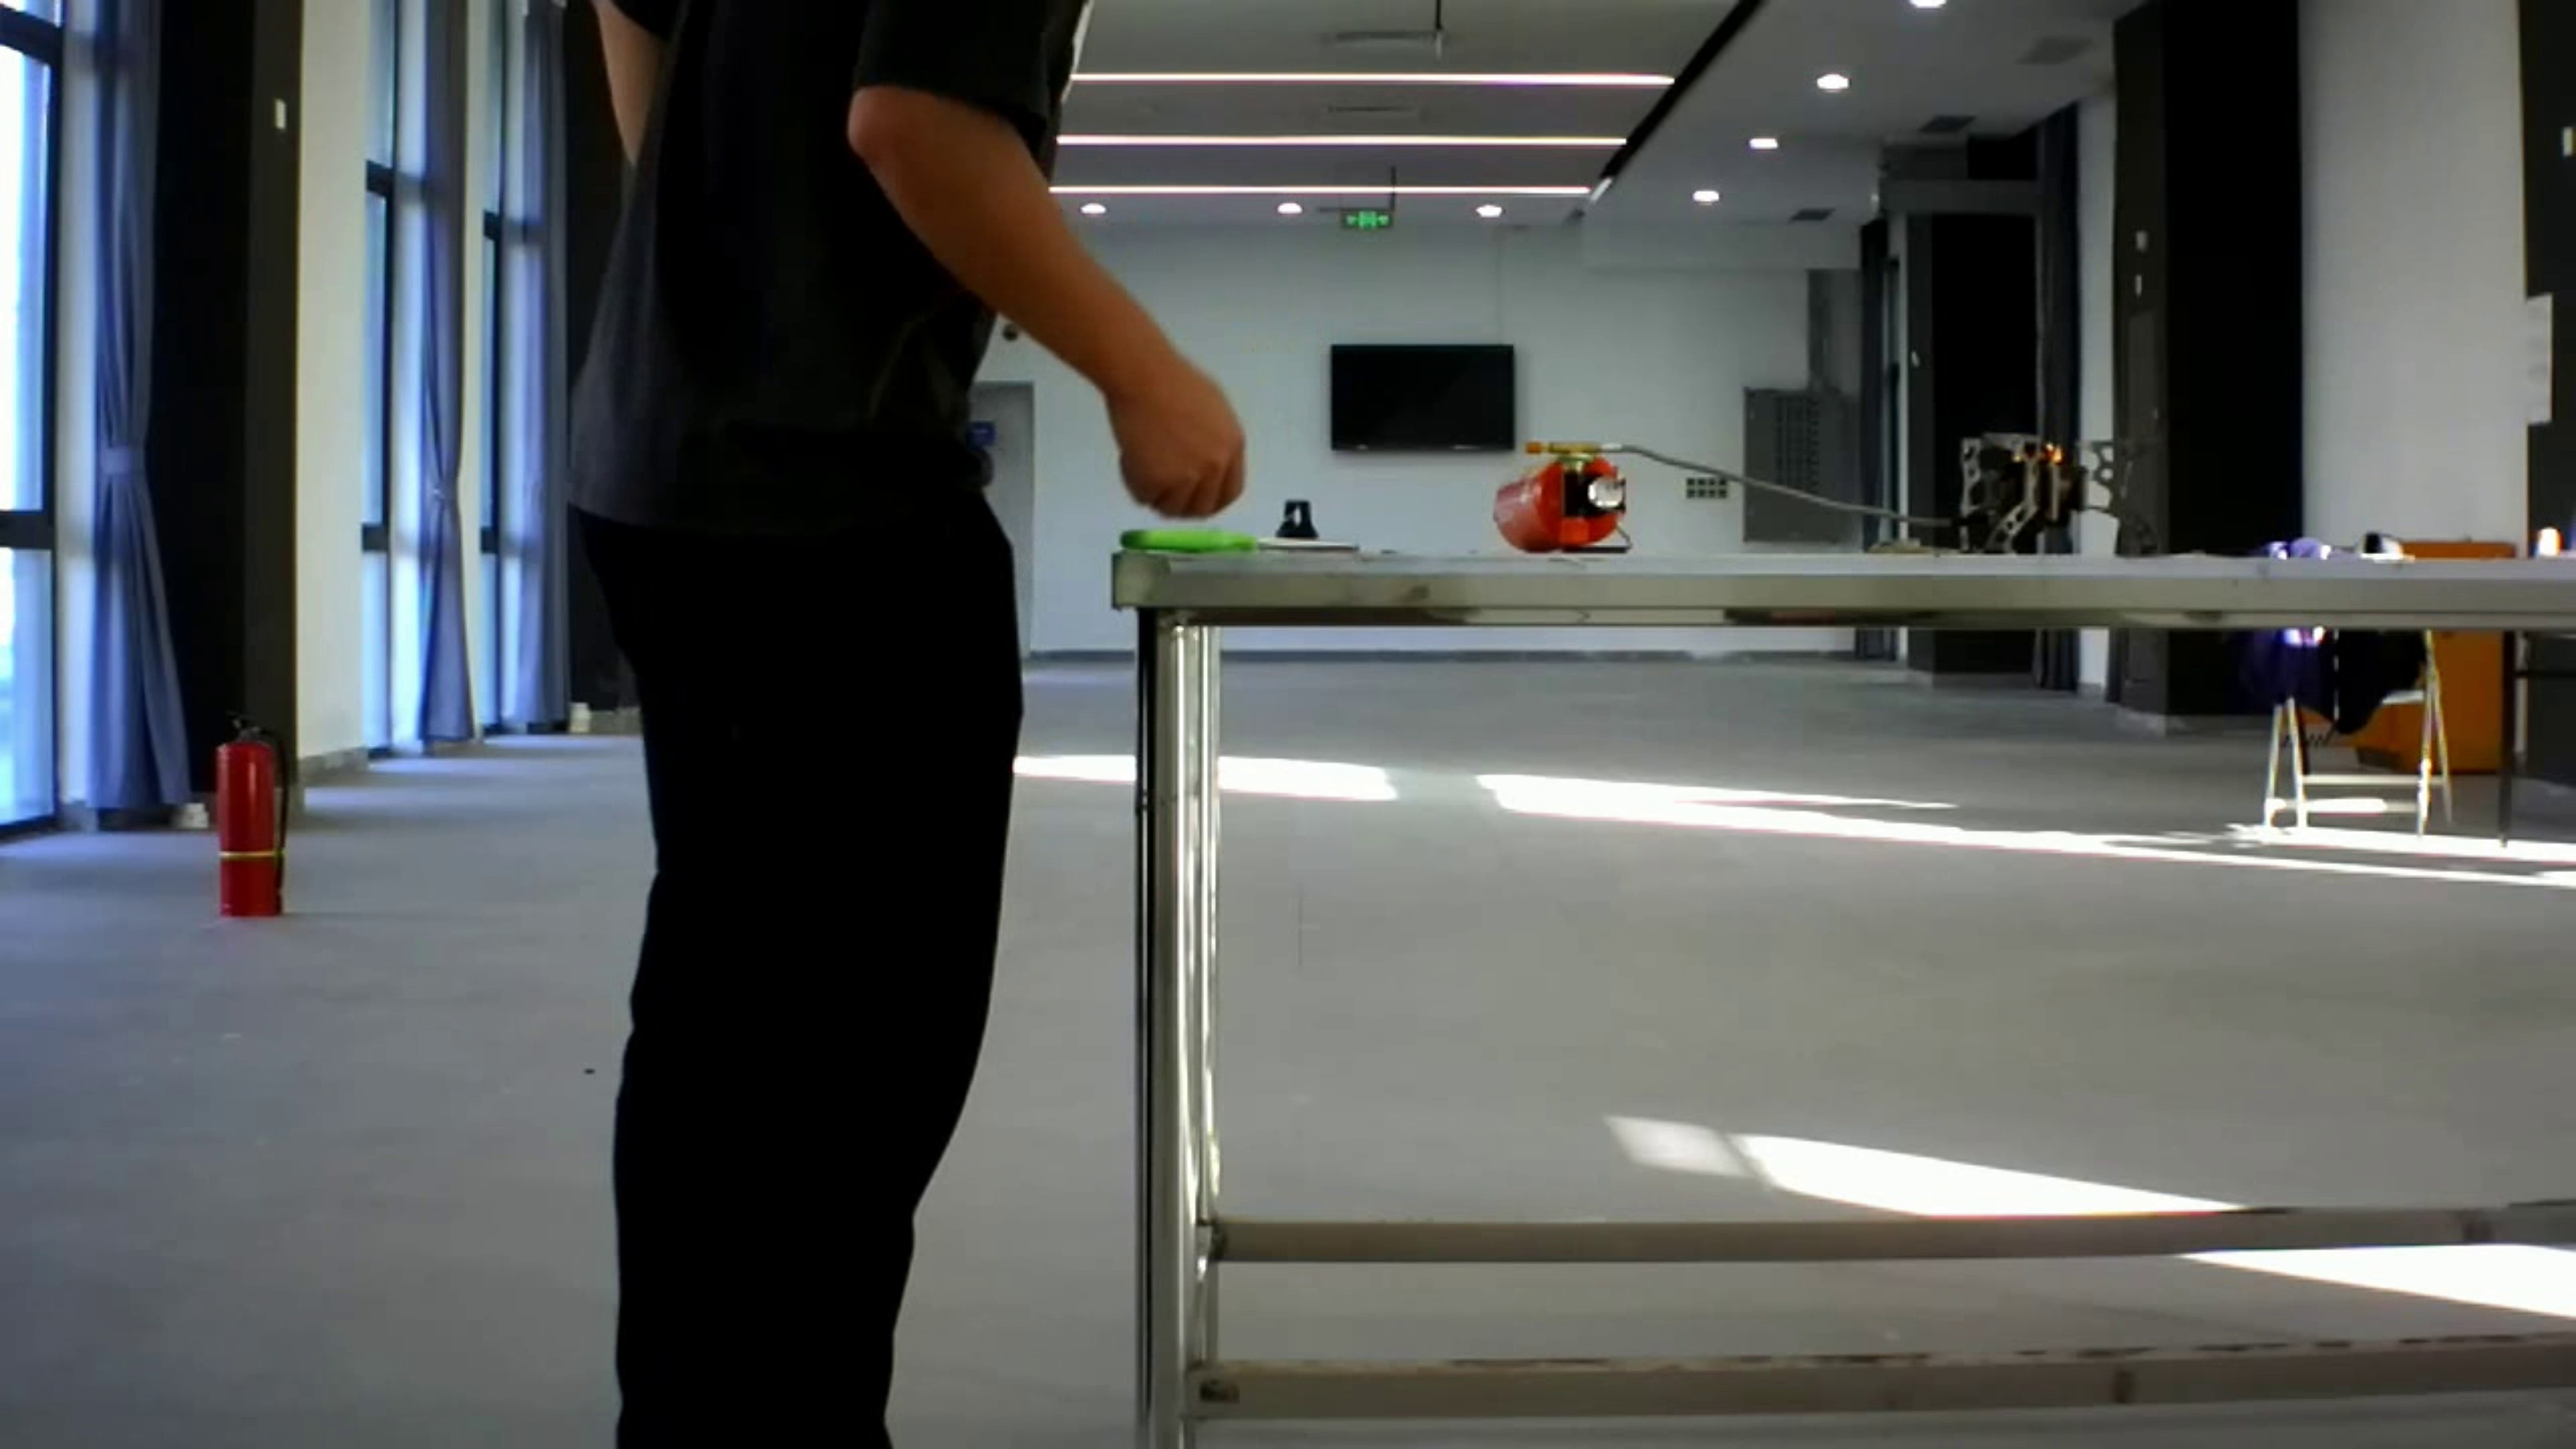Fire: (1985, 407, 2102, 490)
